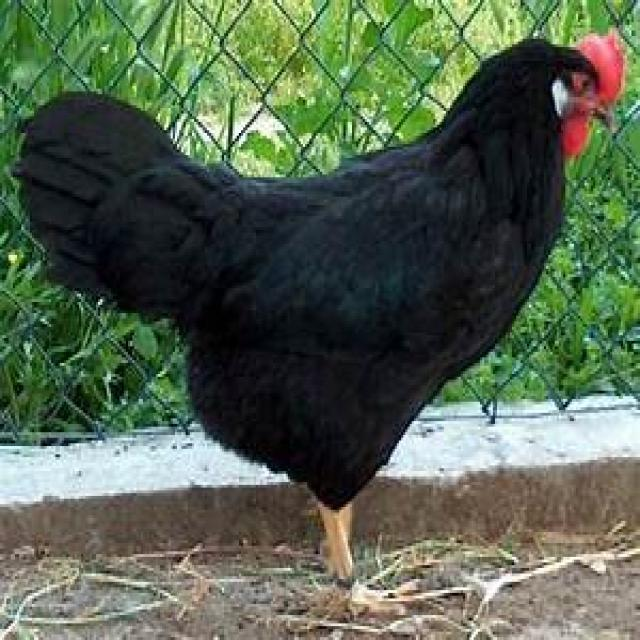hen: (13, 33, 627, 598)
